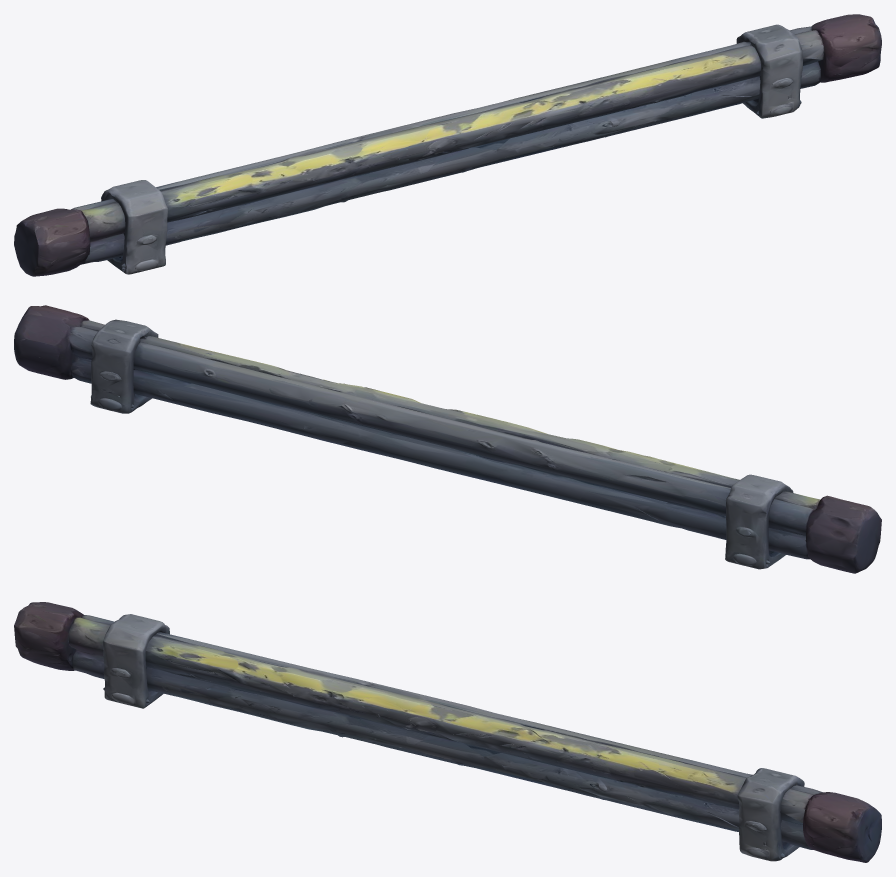
File: line_pipes_idle.glb
3 views of the same model, one above another, from view 1: azimuth 30°, elevation 25°; view 2: azimuth 150°, elevation 25°; view 3: azimuth 330°, elevation 25° (orthographic).
Visible parts, largest first — view 1: tripo_node_f2812a22-c874-49d5-b78d-a195dcf49d8b; view 2: tripo_node_f2812a22-c874-49d5-b78d-a195dcf49d8b; view 3: tripo_node_f2812a22-c874-49d5-b78d-a195dcf49d8b.
Part boxes in pixels (box(x1,y1,x2,y2)): tripo_node_f2812a22-c874-49d5-b78d-a195dcf49d8b: box(14, 14, 881, 276); tripo_node_f2812a22-c874-49d5-b78d-a195dcf49d8b: box(14, 305, 881, 573); tripo_node_f2812a22-c874-49d5-b78d-a195dcf49d8b: box(14, 602, 881, 862).
Bounding box in the file's own units: 3 × 0.2499 × 0.2001.
Materials: 1 (1 with a texture image).
